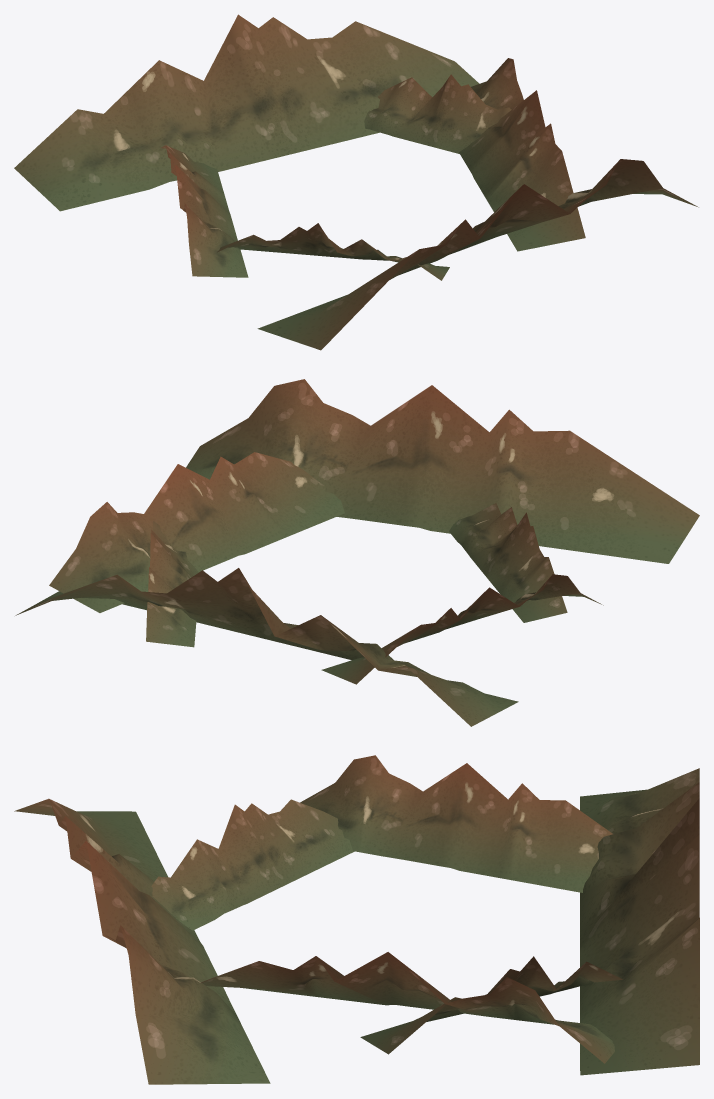
File: mountain.fbx
3 renders of one model, top to bottom at view 1: azimuth 30°, elevation 25°; view 2: azimuth 150°, elevation 25°; view 3: azimuth 270°, elevation 25°, orthographic. The views are drawn at different scales.
Visible parts, largest first — view 1: mountain, mountai2; view 2: mountai2, mountain; view 3: mountai2, mountain.
Boxes of the visible parts, x1,y1,x2,y2 form: mountain: (14, 14, 511, 280); mountai2: (161, 58, 698, 350); mountai2: (49, 379, 699, 684); mountain: (15, 503, 567, 726); mountai2: (14, 755, 614, 1084); mountain: (151, 768, 699, 1075).
Size of the model in its own units: 124275 by 27189 by 119911.
1 material, 1 textured.
